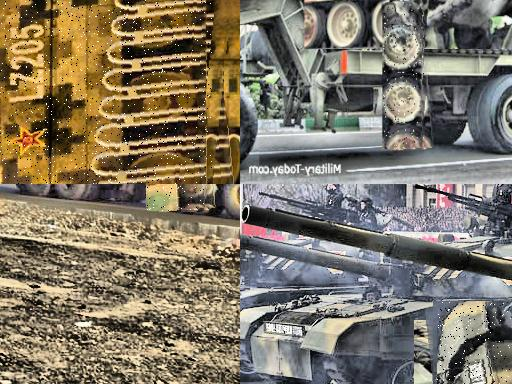tanks: (1, 1, 211, 185), (241, 247, 512, 384), (245, 207, 512, 283), (241, 257, 358, 313), (384, 1, 425, 150), (438, 303, 512, 384), (148, 185, 207, 212)
